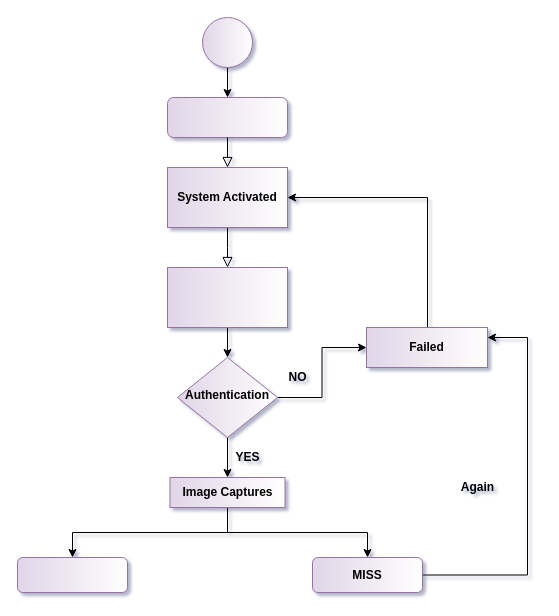
Image size: 559x616. Some labels were removed from this diagram. The centre of each missing label's shape, as x and y in pixels:
"HIT" belongs at pixel 72 574.
"Visitor Ring The Door Bell" belongs at pixel 227 117.
"Visitor's Face is Scanned through Camera" belongs at pixel 227 297.
